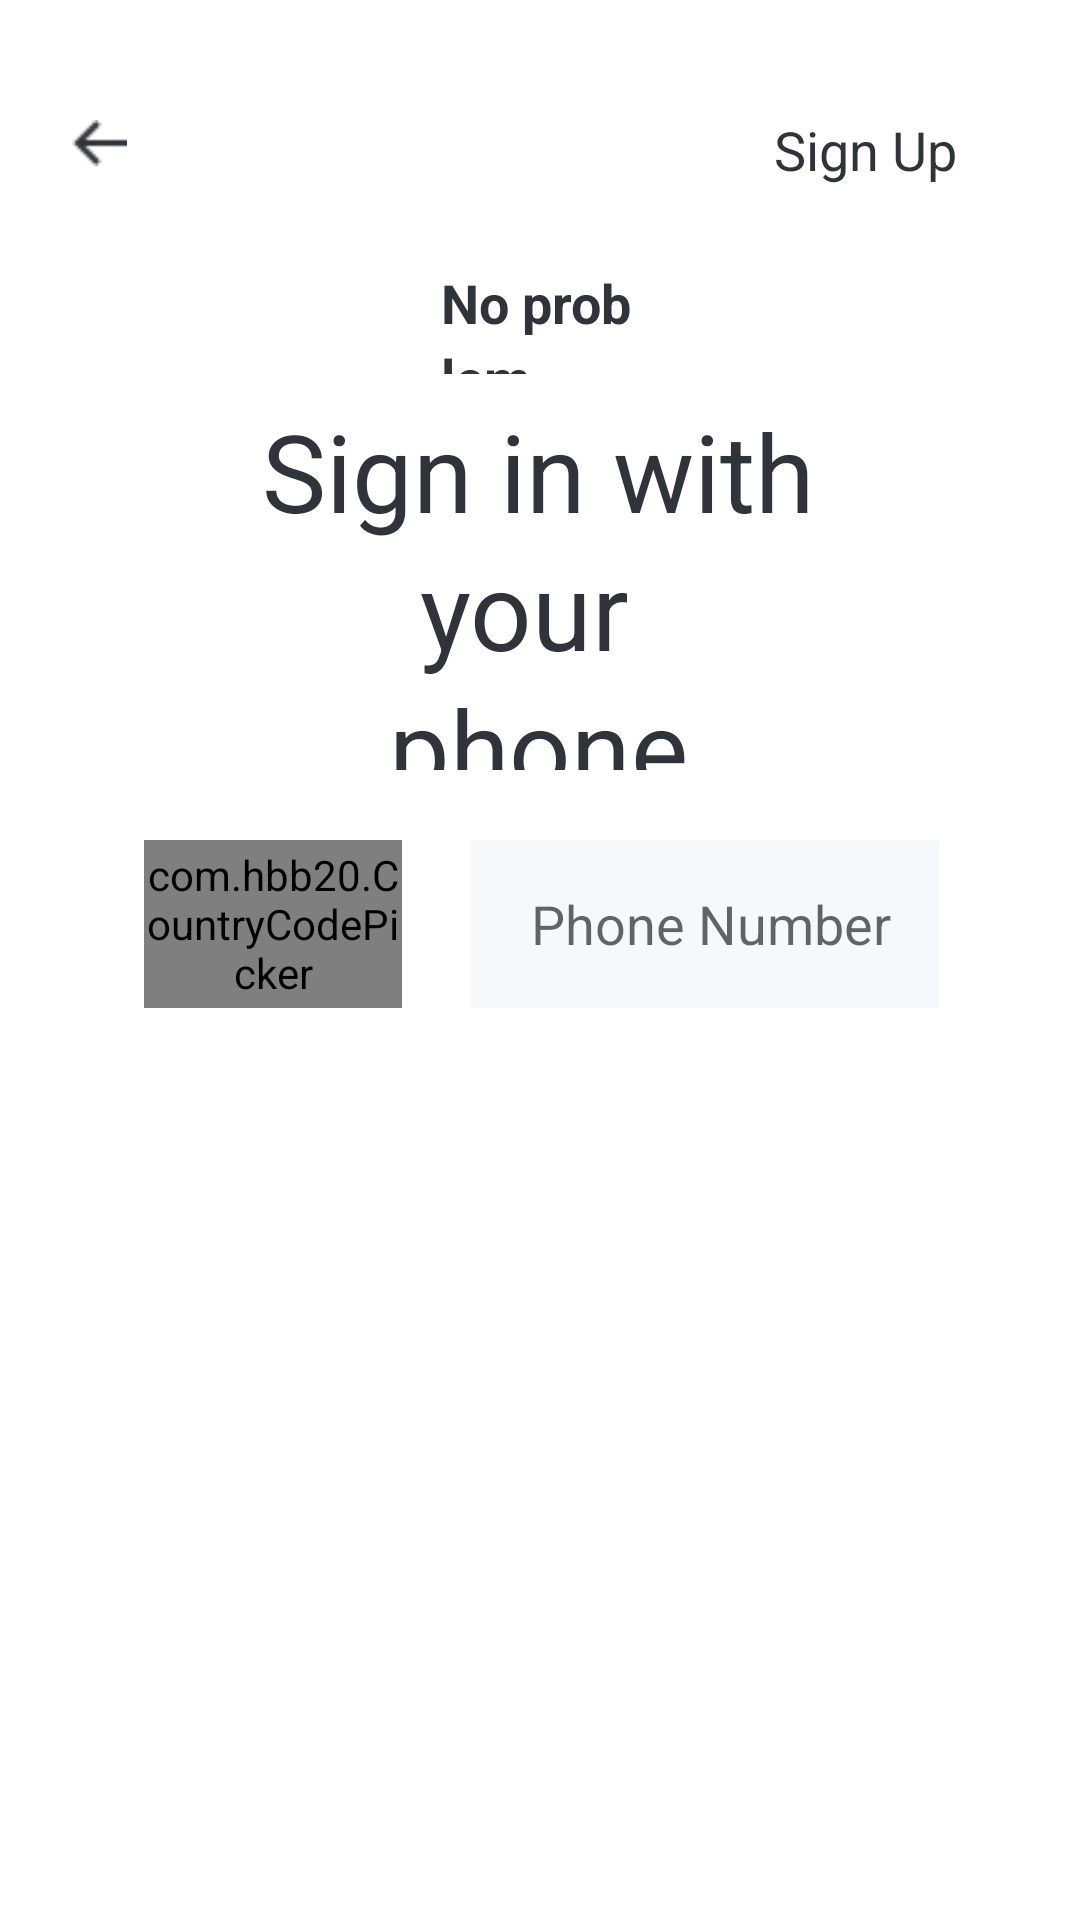

Screen size 1080×1920. Icon name, then its box in pixels as bbox=(x1, y1, x2, y2):
back: bbox=(72, 120, 127, 166)
